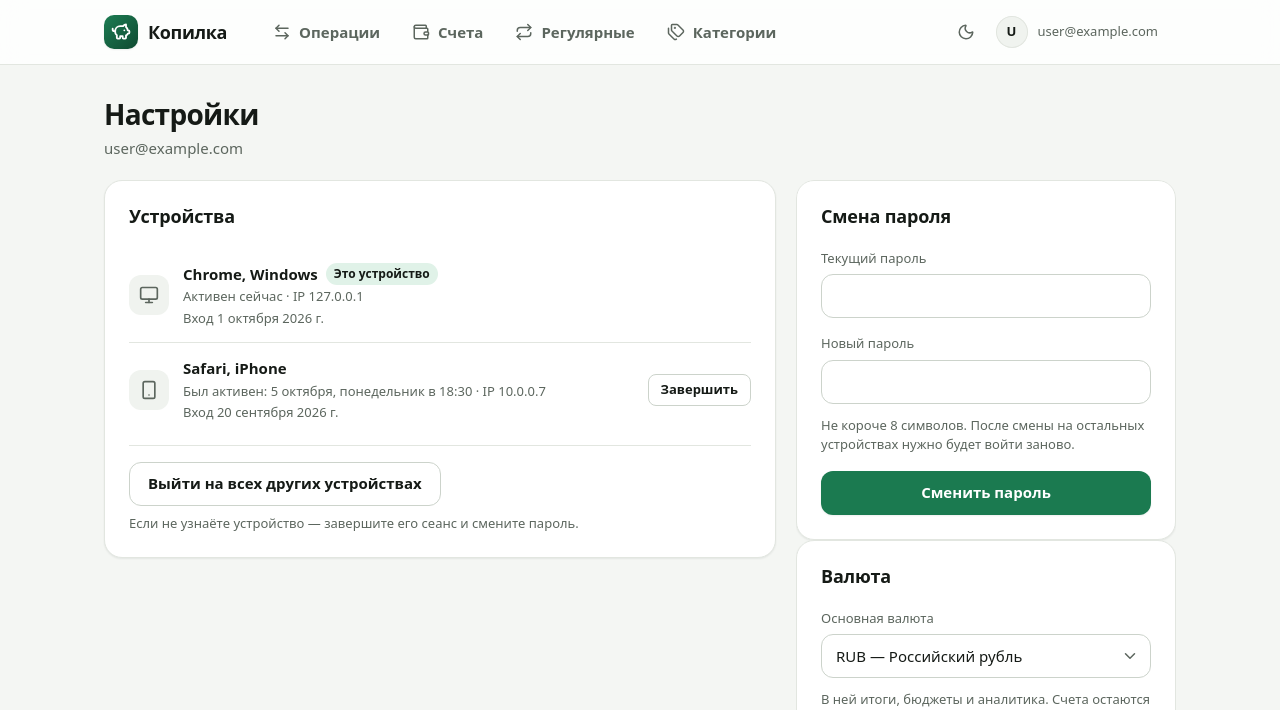
Test: SettingsPage › changes the base currency on purpose, with a button
Select "USD — Доллар США" in the dropdown labelled "Основная валюта" at (986, 656), box [821,634,1151,678]
(page scrolled)
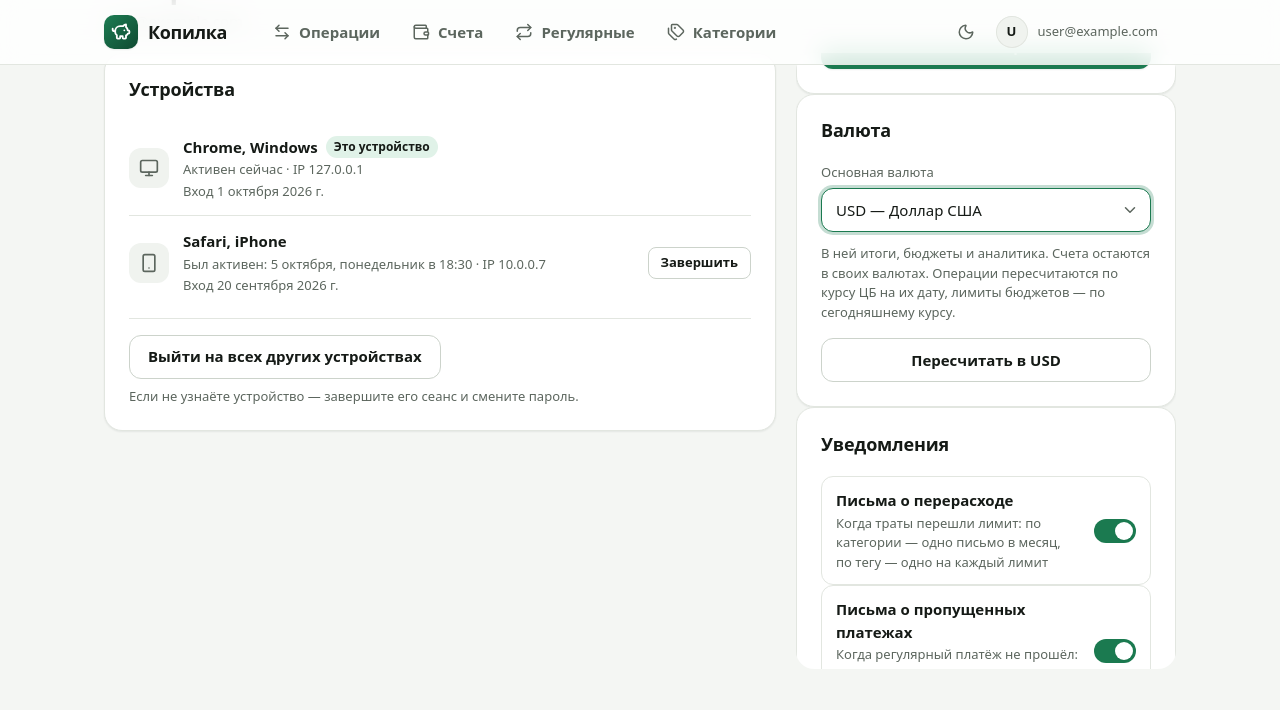
Click the button "Пересчитать в USD" at (986, 360), box [821,338,1151,382]
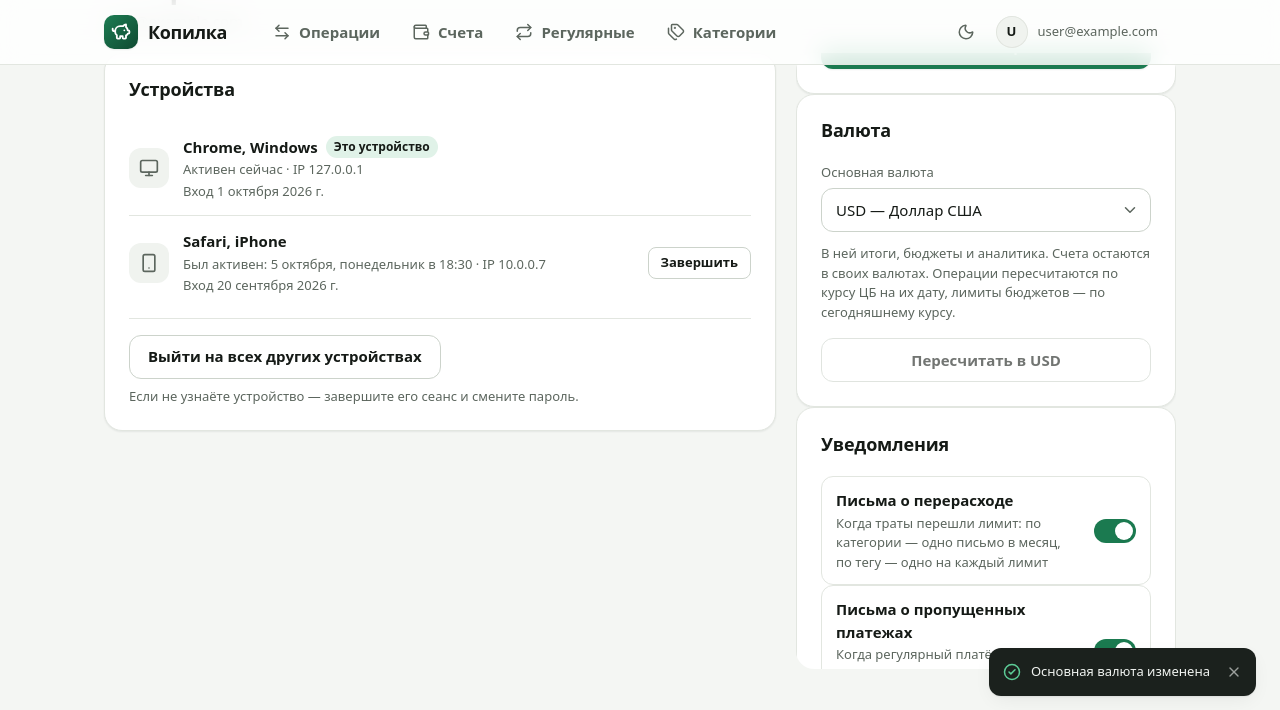
Expected: the text "Основная валюта изменена" is shown, [1031,662,1210,682]
Expected: the button "Пересчитать в USD" is disabled, [821,338,1151,382]
